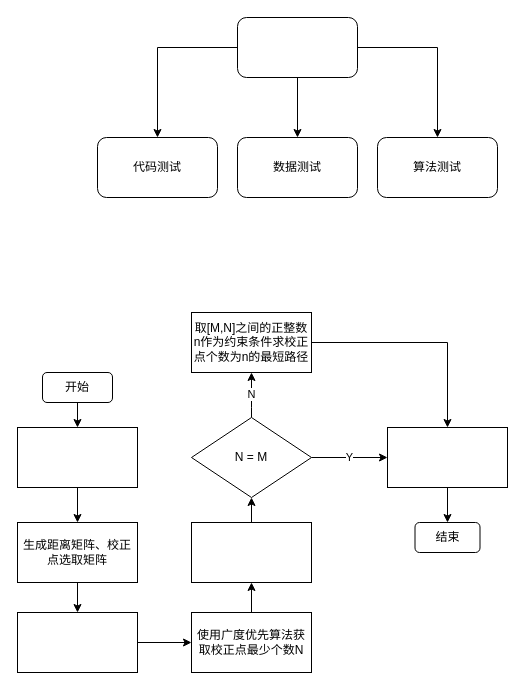
This 525x690 diagram has some shape labels left out. Here are the shapes that lost their labels. From the top down, the centre of each, then its label:
At point 297,47: "测试阶段".
At point 77,457: "生成三维模型，初始化起始点、终点、途径点、障碍物".
At point 447,457: "输出校正点个数和对应最优路径".
At point 251,552: "使用Dijkstra算法得到最短路径对应的校正点个数M".
At point 77,642: "根据约束条件调整距离矩阵和校正矩阵".
